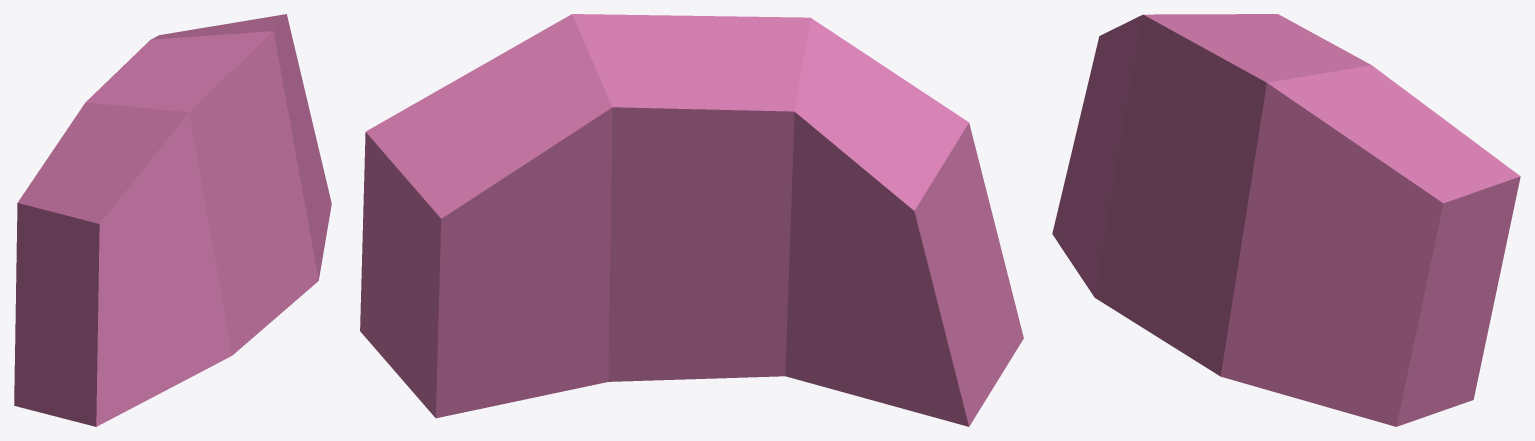
File: UFO1.Piece.01.fbx
3 views of the same model, side by side, from view 1: azimuth 30°, elevation 25°; view 2: azimuth 150°, elevation 25°; view 3: azimuth 270°, elevation 25° (orthographic). The views are drawn at different scales.
Parts seen in each view (by area): view 1: UFO1.Piece.01; view 2: UFO1.Piece.01; view 3: UFO1.Piece.01.
Part boxes in pixels (<box>): UFO1.Piece.01: <box>14,14,331,426</box>; UFO1.Piece.01: <box>360,14,1023,426</box>; UFO1.Piece.01: <box>1052,14,1520,426</box>.
Bounding box in the file's own units: 215 × 144 × 187.
